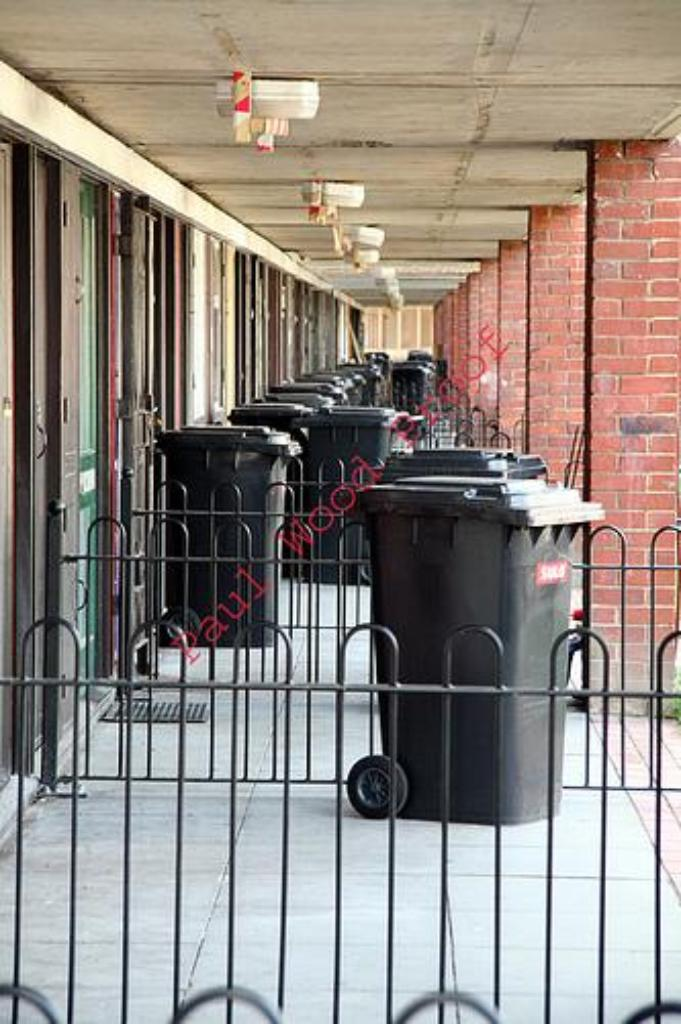dustbin: (334, 412, 608, 850), (135, 417, 308, 645)
